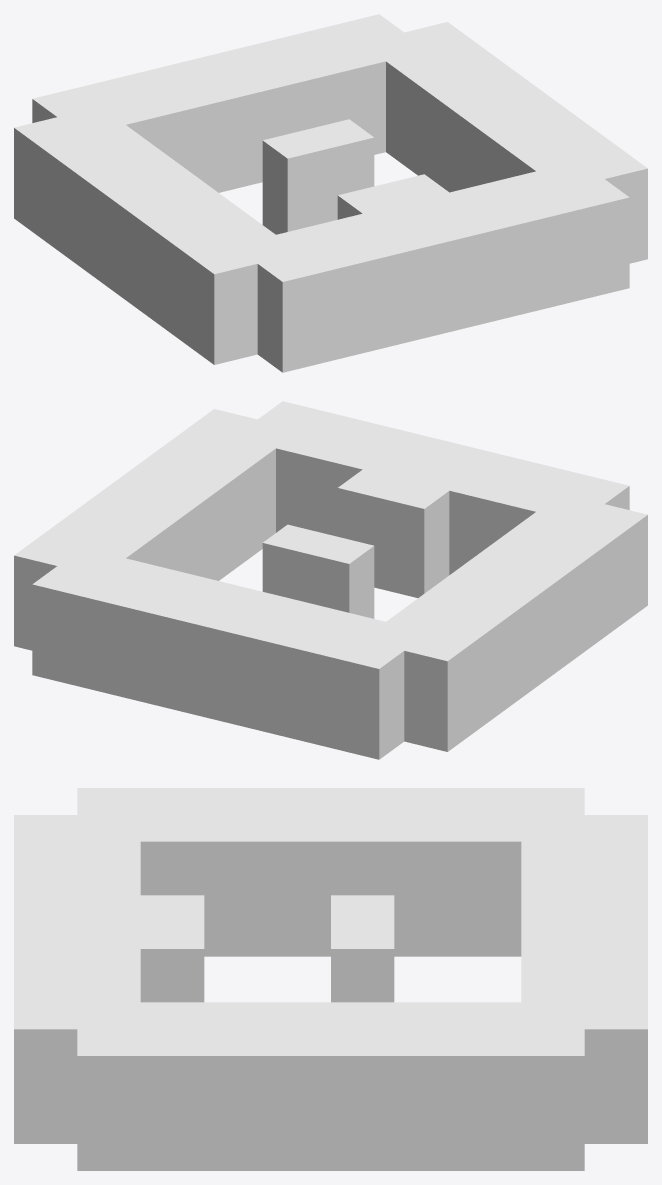
The model's file is tile_all.obj.
The picture shows the model from 3 angles, top to bottom: view 1: azimuth 30°, elevation 25°; view 2: azimuth 150°, elevation 25°; view 3: azimuth 270°, elevation 25°; orthographic projection. The views are drawn at different scales.
Size of the model in its own units: 1 by 0.2 by 1.
1 material, 1 textured.
